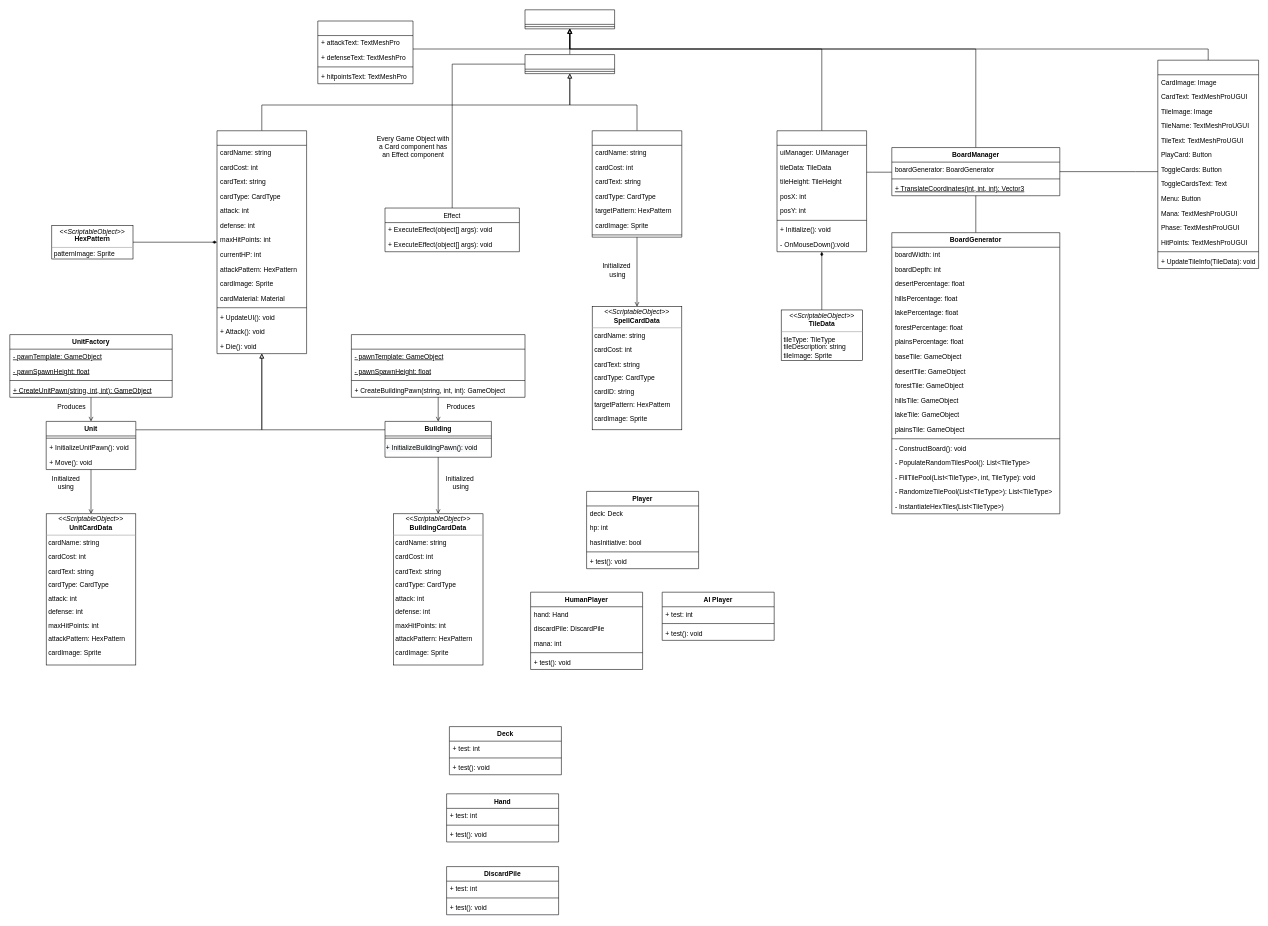
This 1268x926 diagram has some shape labels left out. The shapes that lost their labels are listed below. From the top down, each one's box as (x1, y1, x2, y2) in pixels, then its label:
(524, 9, 615, 29): MonoBehaviour
(317, 20, 413, 84): PawnStats
(524, 54, 615, 74): Card
(592, 130, 682, 237): Spell
(1157, 60, 1259, 269): UIManager
(776, 130, 867, 252): HexTile
(216, 130, 307, 354): Spawnable
(351, 334, 525, 397): BuildingFactory
